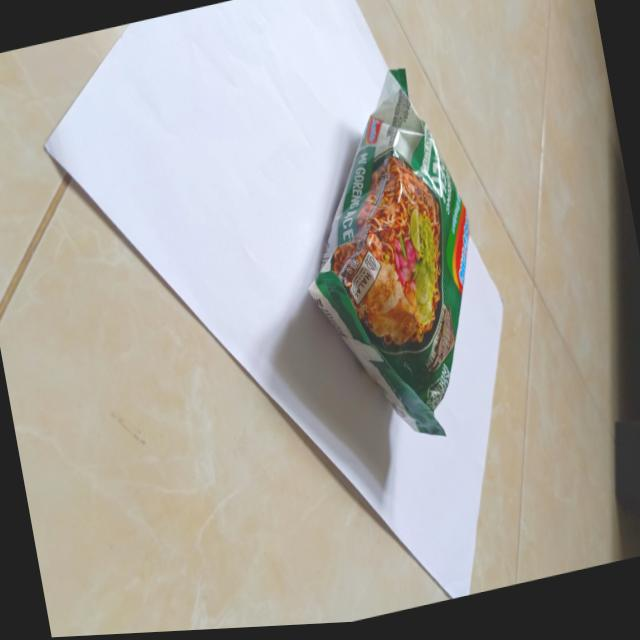gery-salut-coconut: (270, 58, 508, 467)
